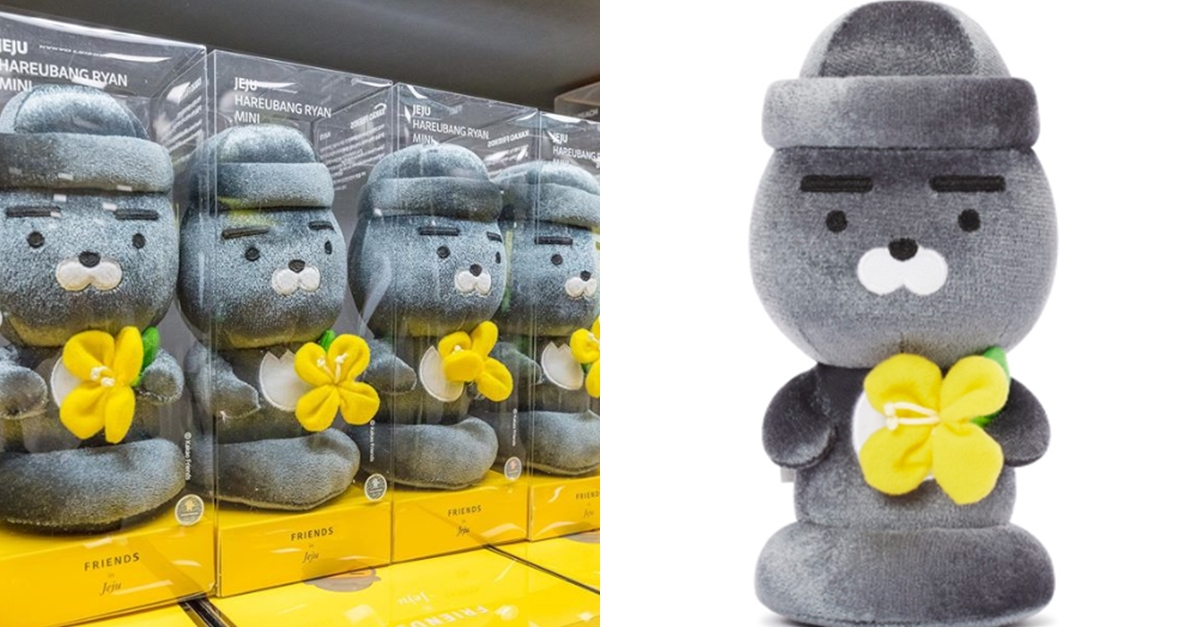Stone Statue: (702, 4, 1127, 627), (0, 61, 212, 539), (181, 112, 376, 533), (352, 116, 523, 501)
